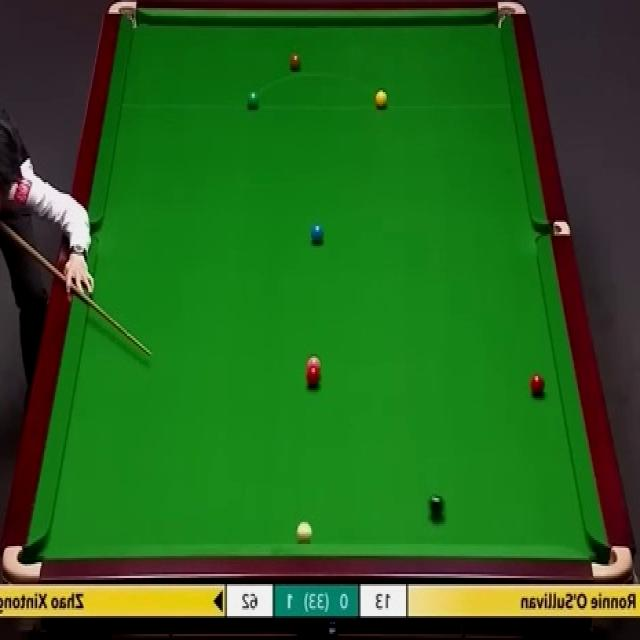black-ball: (429, 494, 444, 518)
blue-ball: (310, 222, 324, 243)
brown-ball: (289, 52, 302, 74)
green-ball: (247, 89, 260, 110)
pink-ball: (306, 356, 323, 366)
red-ball: (529, 373, 546, 398), (307, 368, 321, 389)
white-ball: (295, 522, 312, 541)
yellow-ball: (375, 90, 387, 110)
